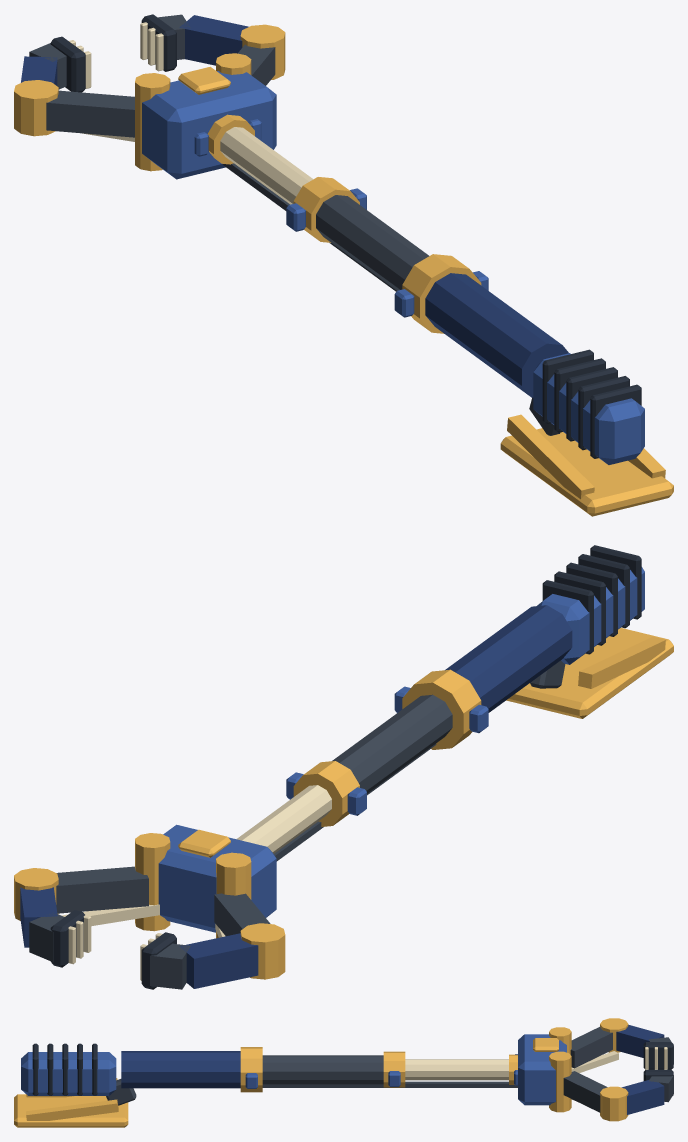
Rendered from itm_reach_grabber.glb.
The picture shows the model from 3 angles, top to bottom: view 1: azimuth 30°, elevation 25°; view 2: azimuth 150°, elevation 25°; view 3: azimuth 270°, elevation 25°; orthographic projection. The views are drawn at different scales.
Parts seen in each view (by area): view 1: itm_reach_grabber, itm_reach_grabber__claw_hub, itm_reach_grabber__outer_telescope_tube, itm_reach_grabber__handle_guard_base, itm_reach_grabber__middle_telescope_tube, itm_reach_grabber__handle_grip, itm_reach_grabber__claw_outer_link_right, itm_reach_grabber__inner_telescope_tube, itm_reach_grabber__handle_guard_side_right, itm_reach_grabber__curved_jaw_left, itm_reach_grabber__claw_elbow_right, itm_reach_grabber__claw_pin_right (+7 smaller); view 2: itm_reach_grabber, itm_reach_grabber__outer_telescope_tube, itm_reach_grabber__claw_hub, itm_reach_grabber__middle_telescope_tube, itm_reach_grabber__handle_guard_base, itm_reach_grabber__claw_outer_link_left, itm_reach_grabber__curved_jaw_right, itm_reach_grabber__handle_grip, itm_reach_grabber__inner_telescope_tube, itm_reach_grabber__claw_pin_left, itm_reach_grabber__handle_guard_side_right, itm_reach_grabber__claw_elbow_right (+10 smaller); view 3: itm_reach_grabber__outer_telescope_tube, itm_reach_grabber__middle_telescope_tube, itm_reach_grabber, itm_reach_grabber__handle_grip, itm_reach_grabber__handle_guard_base, itm_reach_grabber__claw_hub, itm_reach_grabber__inner_telescope_tube, itm_reach_grabber__actuation_link, itm_reach_grabber__handle_guard_side_left, itm_reach_grabber__claw_outer_link_right, itm_reach_grabber__claw_outer_link_left, itm_reach_grabber__curved_jaw_left (+13 smaller).
Boxes of the visible parts, x1=… form: itm_reach_grabber: x1=69, y1=22, x2=641, y2=458; itm_reach_grabber__claw_hub: x1=142, y1=71, x2=276, y2=179; itm_reach_grabber__outer_telescope_tube: x1=425, y1=273, x2=568, y2=397; itm_reach_grabber__handle_guard_base: x1=500, y1=428, x2=673, y2=516; itm_reach_grabber__middle_telescope_tube: x1=316, y1=195, x2=428, y2=290; itm_reach_grabber__handle_grip: x1=533, y1=353, x2=644, y2=464; itm_reach_grabber__claw_outer_link_right: x1=46, y1=90, x2=134, y2=137; itm_reach_grabber__inner_telescope_tube: x1=220, y1=127, x2=313, y2=204; itm_reach_grabber__handle_guard_side_right: x1=507, y1=414, x2=594, y2=499; itm_reach_grabber__curved_jaw_left: x1=179, y1=15, x2=248, y2=65; itm_reach_grabber__claw_elbow_right: x1=14, y1=80, x2=58, y2=136; itm_reach_grabber__claw_pin_right: x1=135, y1=73, x2=170, y2=171; itm_reach_grabber: x1=68, y1=545, x2=641, y2=980; itm_reach_grabber__outer_telescope_tube: x1=445, y1=605, x2=572, y2=712; itm_reach_grabber__claw_hub: x1=158, y1=824, x2=276, y2=932; itm_reach_grabber__middle_telescope_tube: x1=332, y1=694, x2=452, y2=793; itm_reach_grabber__handle_guard_base: x1=506, y1=628, x2=673, y2=718; itm_reach_grabber__claw_outer_link_left: x1=56, y1=866, x2=148, y2=913; itm_reach_grabber__curved_jaw_right: x1=179, y1=933, x2=258, y2=988; itm_reach_grabber__handle_grip: x1=536, y1=567, x2=644, y2=664; itm_reach_grabber__inner_telescope_tube: x1=236, y1=785, x2=331, y2=853; itm_reach_grabber__claw_pin_left: x1=135, y1=833, x2=170, y2=931; itm_reach_grabber__handle_guard_side_right: x1=578, y1=636, x2=665, y2=688; itm_reach_grabber__claw_elbow_right: x1=240, y1=923, x2=285, y2=979; itm_reach_grabber__outer_telescope_tube: x1=121, y1=1051, x2=240, y2=1088; itm_reach_grabber__middle_telescope_tube: x1=262, y1=1055, x2=383, y2=1084; itm_reach_grabber: x1=32, y1=1043, x2=667, y2=1095; itm_reach_grabber__handle_grip: x1=21, y1=1052, x2=116, y2=1095; itm_reach_grabber__handle_guard_base: x1=14, y1=1094, x2=128, y2=1127; itm_reach_grabber__claw_hub: x1=518, y1=1034, x2=566, y2=1105; itm_reach_grabber__inner_telescope_tube: x1=405, y1=1059, x2=508, y2=1080; itm_reach_grabber__actuation_link: x1=262, y1=1081, x2=517, y2=1087; itm_reach_grabber__handle_guard_side_left: x1=26, y1=1099, x2=118, y2=1120; itm_reach_grabber__claw_outer_link_right: x1=570, y1=1027, x2=612, y2=1068; itm_reach_grabber__claw_outer_link_left: x1=563, y1=1071, x2=607, y2=1112; itm_reach_grabber__curved_jaw_left: x1=621, y1=1079, x2=664, y2=1114.
Bounding box in the file's own units: 0.3197 × 0.1375 × 1.11.
